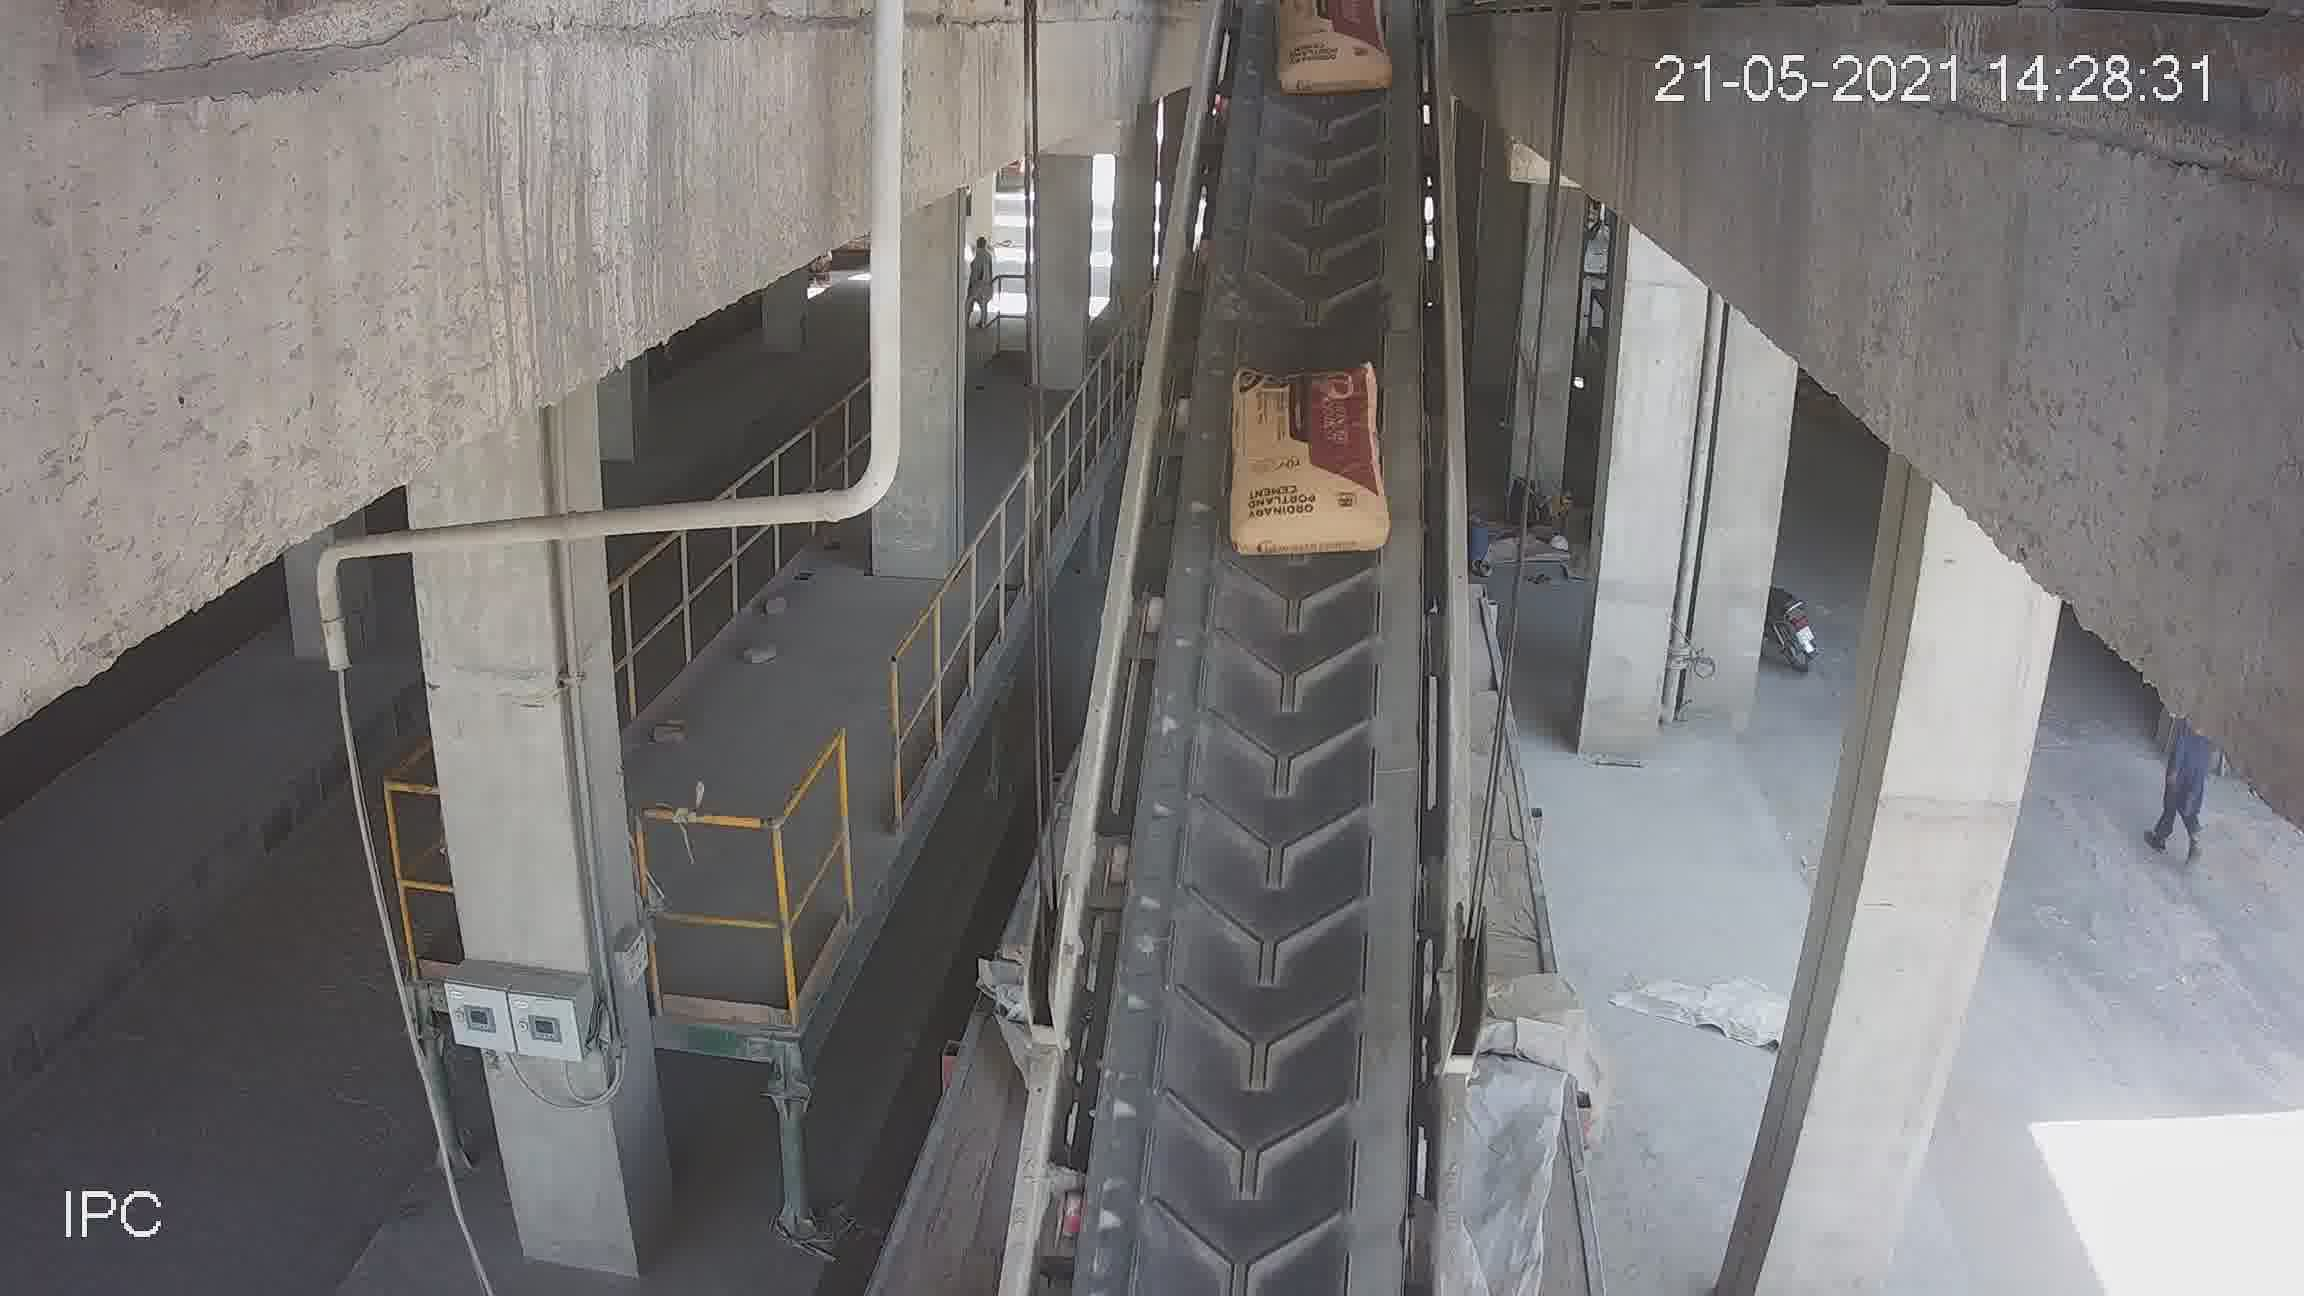bag: (1236, 367, 1381, 562), (1283, 6, 1381, 85)
belt: (1048, 36, 1468, 1263)
